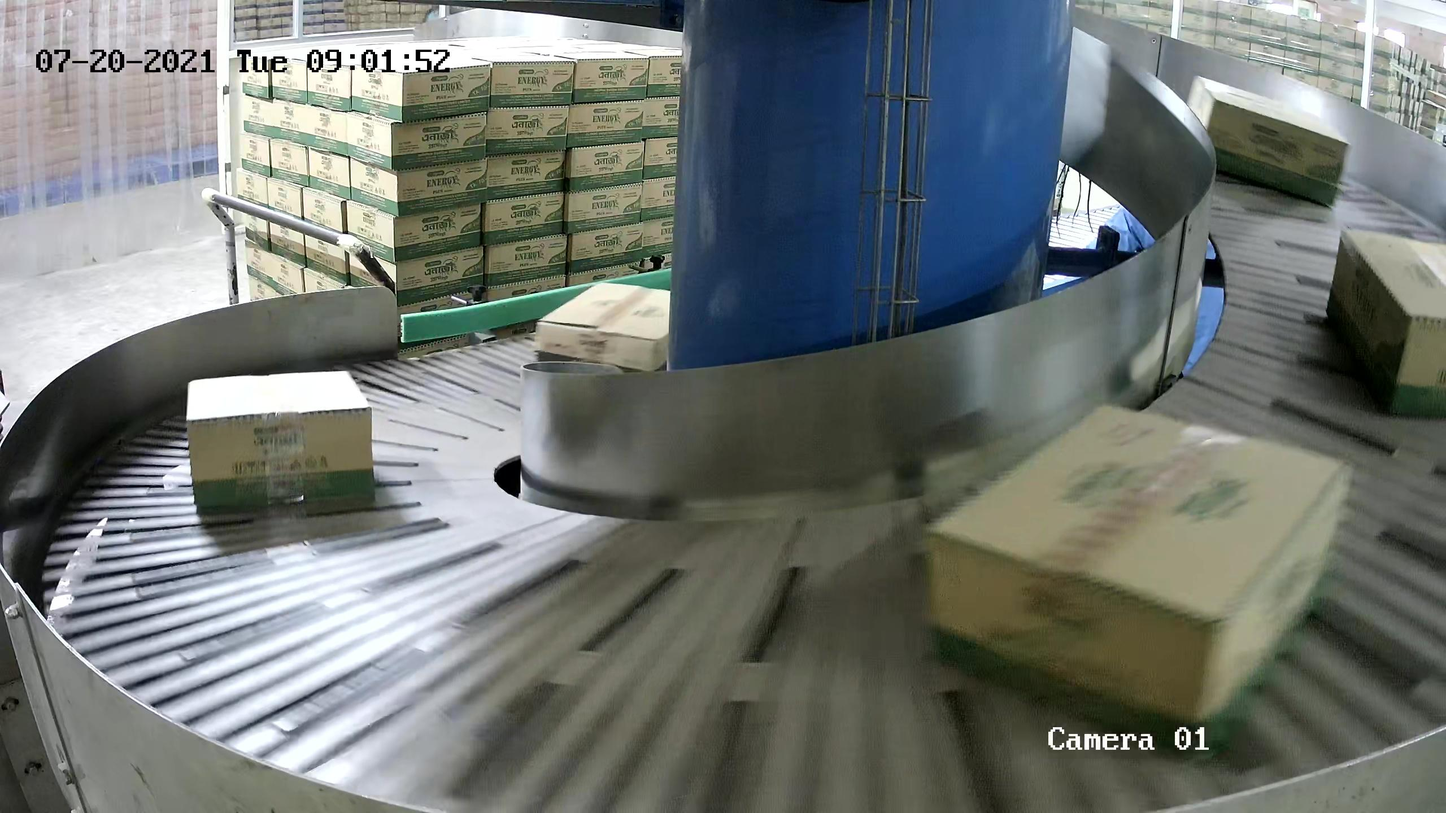Box: (924, 399, 1355, 763), (184, 369, 378, 513), (1324, 226, 1446, 419), (1186, 73, 1351, 208), (532, 281, 671, 374)
